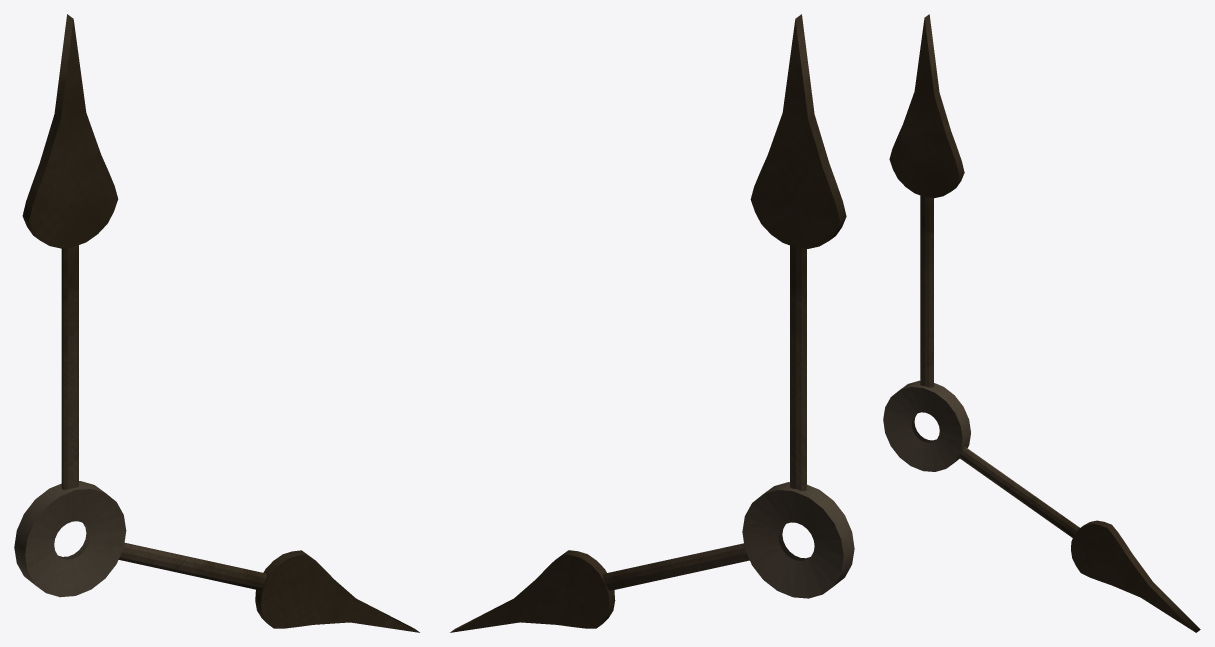
The model's file is ClockHand.fbx.
3 renders of one model, left to right at view 1: azimuth 30°, elevation 25°; view 2: azimuth 150°, elevation 25°; view 3: azimuth 330°, elevation 25°, orthographic. The views are drawn at different scales.
Parts seen in each view (by area): view 1: polySurface12; view 2: polySurface12; view 3: polySurface12.
Part boxes in pixels (x1,y1,x2,y2): polySurface12: (14, 14, 419, 632); polySurface12: (450, 14, 854, 632); polySurface12: (883, 14, 1200, 632).
Size of the model in its own units: 27.26 by 45.81 by 1.28.
Materials: 1 (1 with a texture image).
